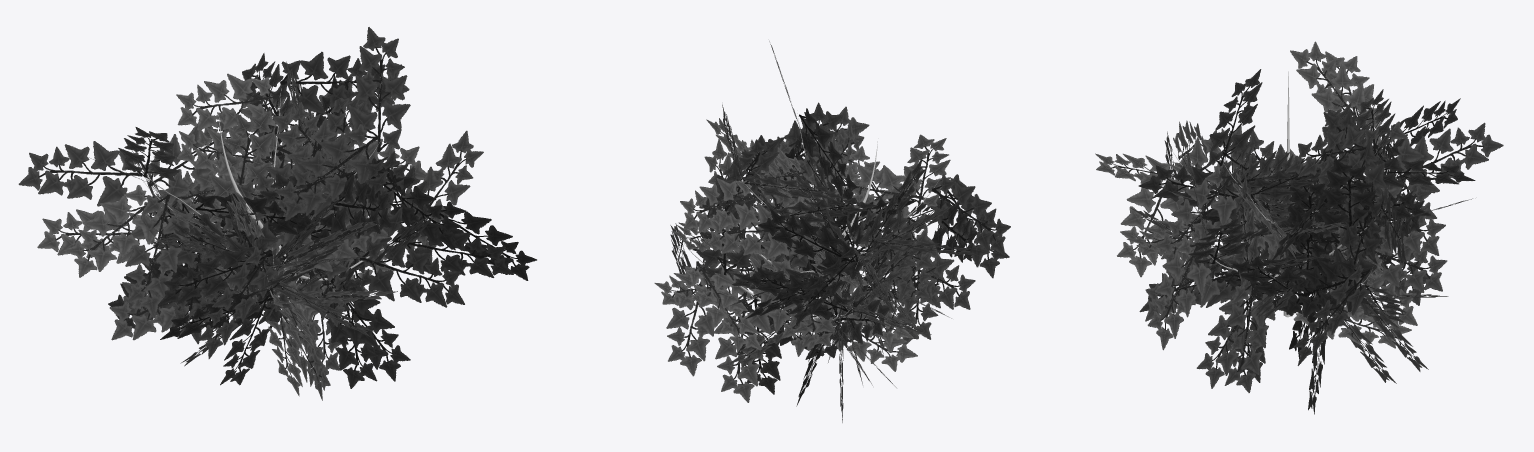
File: SM_Bush.FBX
3 views of the same model, side by side, from view 1: azimuth 30°, elevation 25°; view 2: azimuth 150°, elevation 25°; view 3: azimuth 270°, elevation 25° (orthographic). The views are drawn at different scales.
Parts seen in each view (by area): view 1: bgroup3, bgroup1; view 2: bgroup3, bgroup1; view 3: bgroup3, bgroup1.
Boxes of the visible parts, x1,y1,x2,y2 form: bgroup3: [18, 27, 536, 400]; bgroup1: [132, 88, 430, 322]; bgroup3: [654, 41, 1010, 422]; bgroup1: [681, 110, 937, 321]; bgroup3: [1095, 41, 1503, 414]; bgroup1: [1171, 71, 1381, 317].
Bounding box in the file's own units: 185 × 161 × 182.
